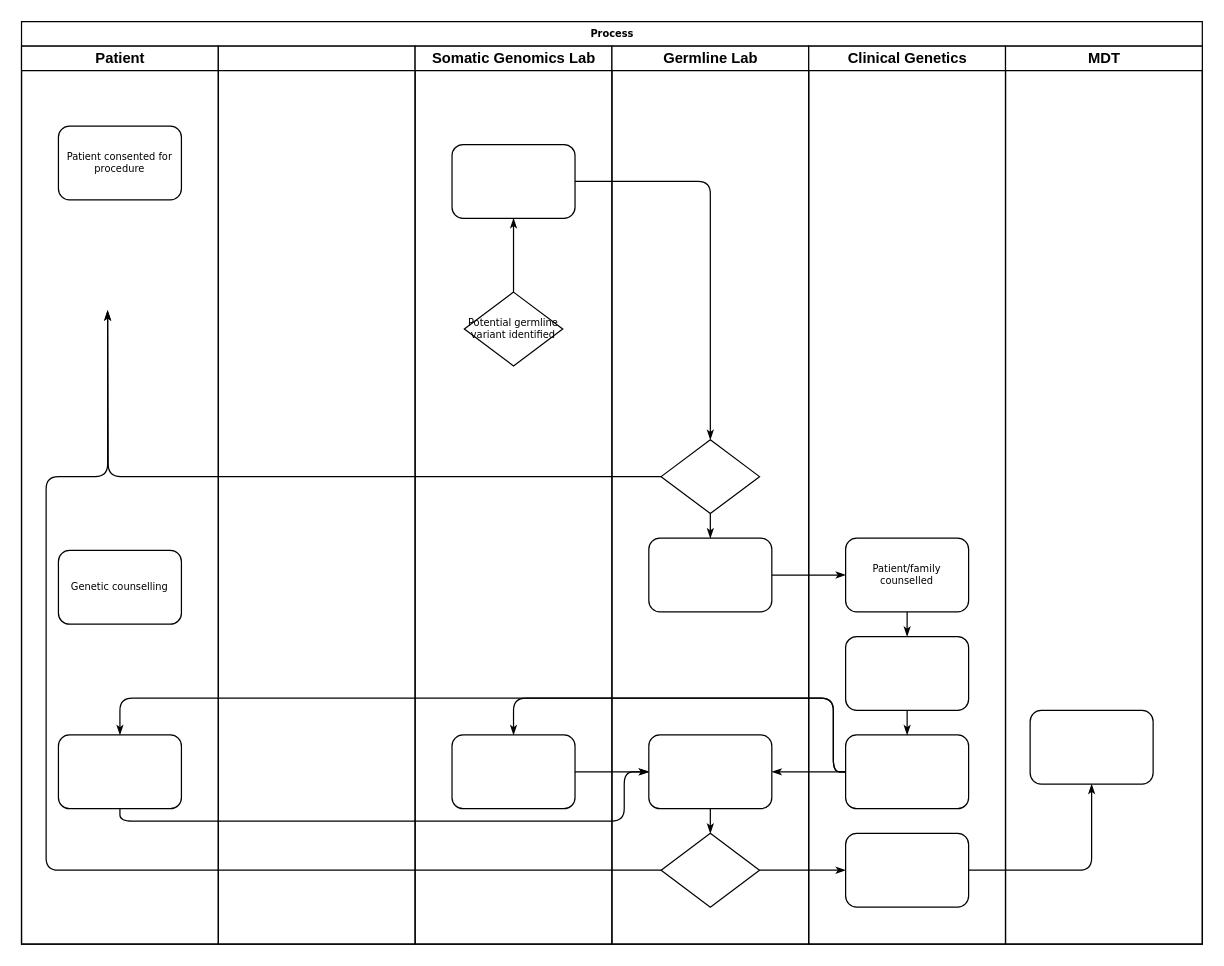
Image size: 1224x966. Some labels were removed from this diagram. The centre of each missing label's shape, as x and y in pixels:
"Surgeon/Onc/Haem" goes at [316,494].
"Tumour sample arrives in lab" goes at [513,180].
